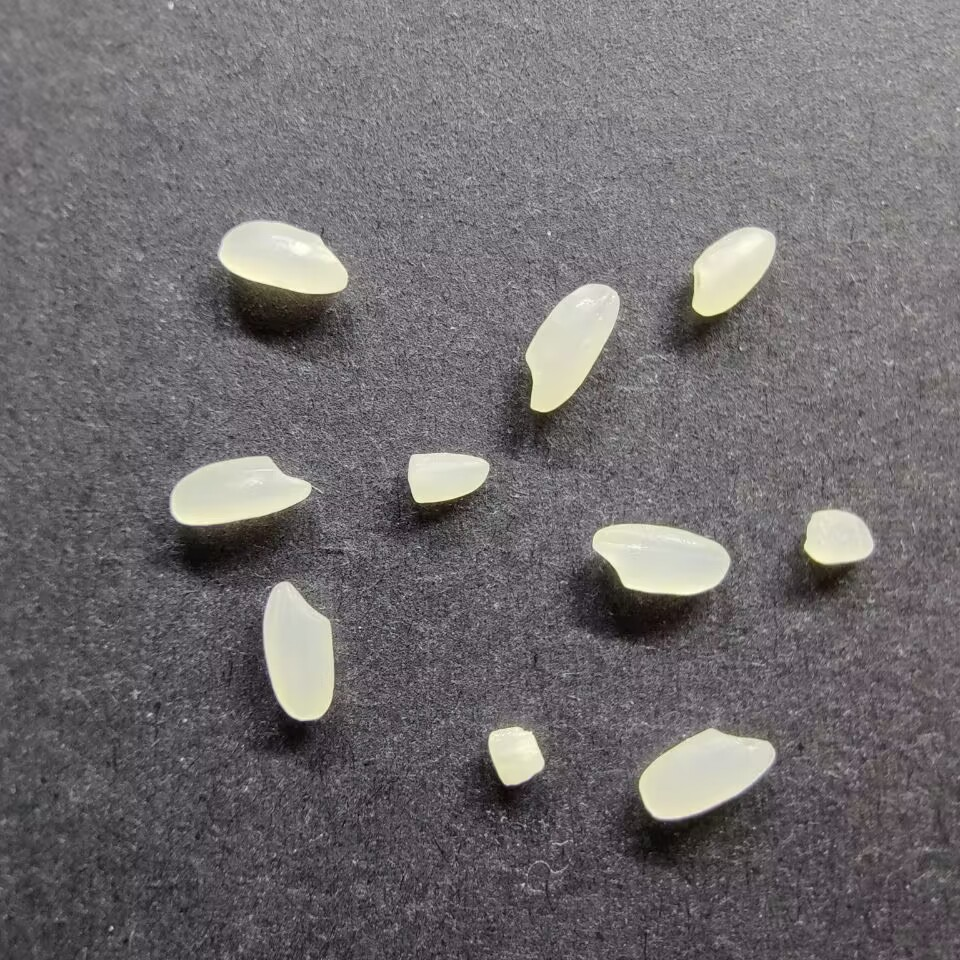broken: (406, 448, 494, 504), (803, 504, 876, 567), (486, 724, 549, 788)
rice: (635, 725, 777, 821), (521, 281, 621, 416), (167, 452, 313, 527), (260, 579, 336, 723), (587, 521, 730, 597), (216, 219, 351, 296), (689, 225, 780, 317)
